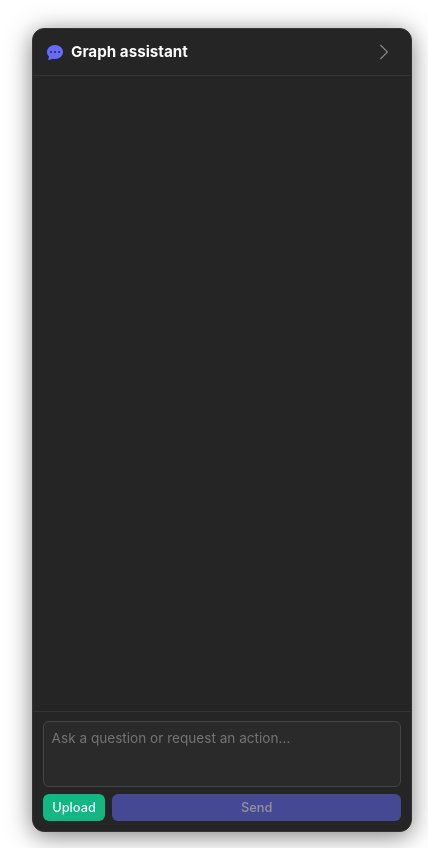
ChatPanel › Message sending › displays error message on API failure
Type "Search" into the text box with placeholder "Ask a question or request an action..." at x=222, y=754, box [43,721,401,787]
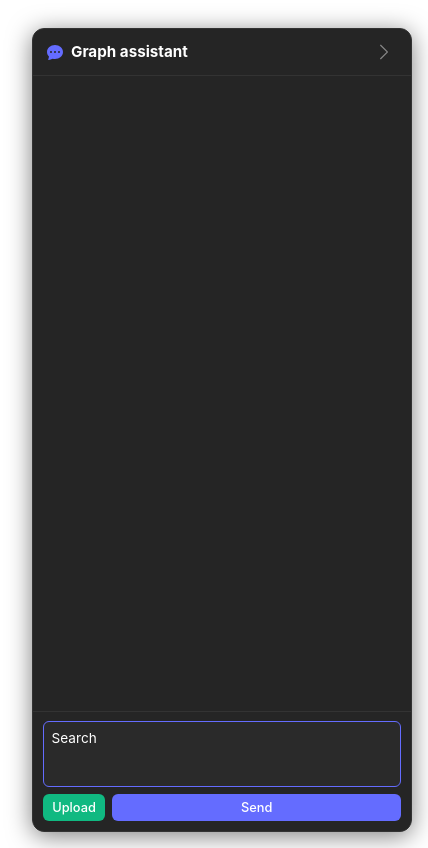
Click the button "Send" at x=257, y=808, box [112,794,401,821]
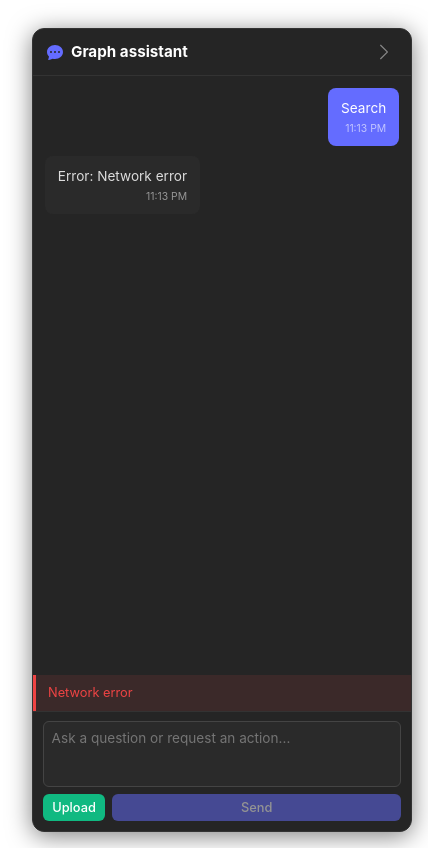
Now the text "Error: Network error" is shown, box [58,166,187,186]
